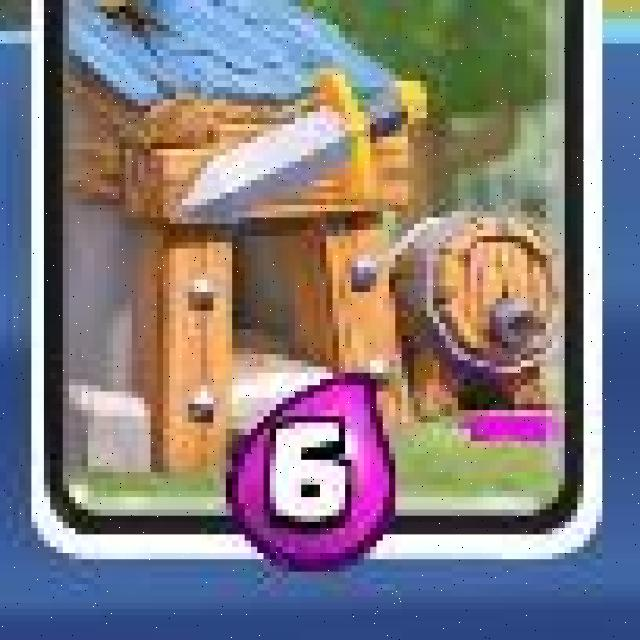Barbarian_Hut: (29, 0, 606, 565)
